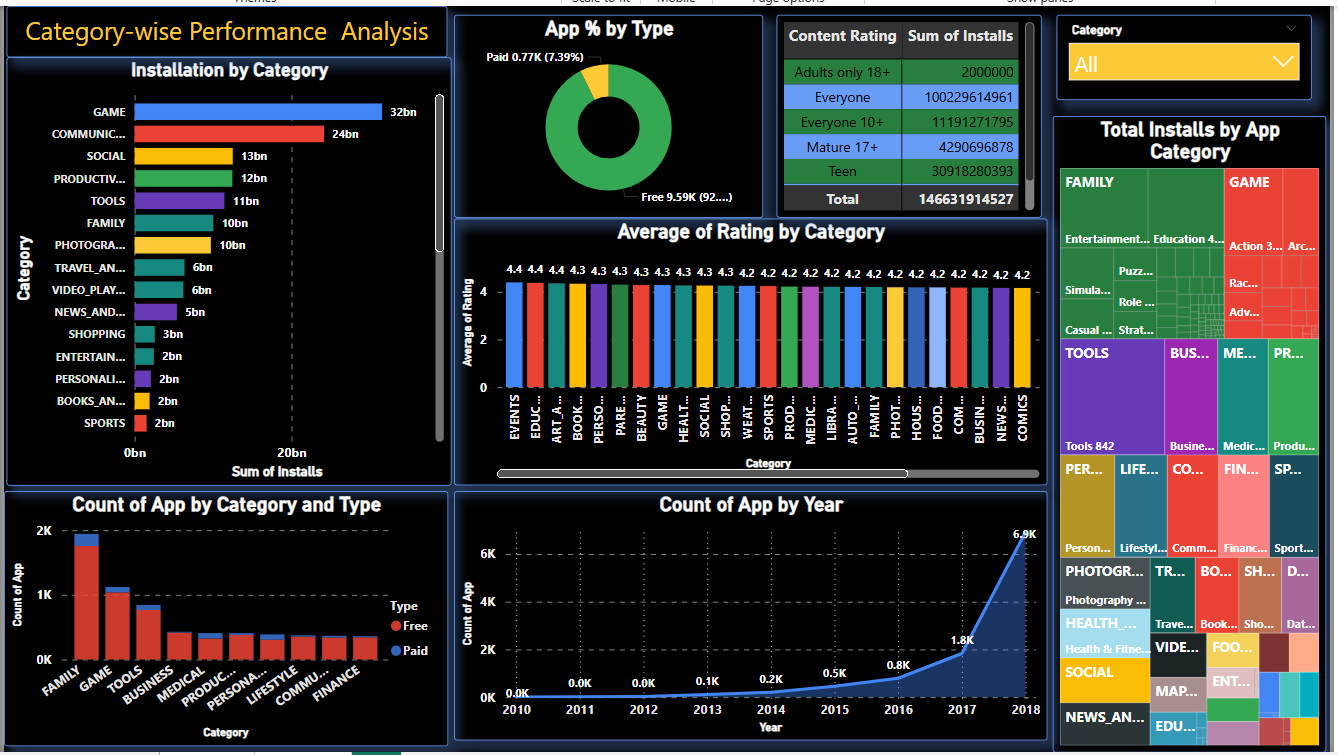

Layout of this report page (visuals, bound fields, positions):
{"tool":"powerbi","page":{"name":"Page 2","canvas":[1280,720],"ordinal":1},"visuals":[{"type":"donutChart","title":"App % by Type","fields":{"Category":["cleaned_data.Type"],"Y":["CountNonNull(cleaned_data.App)"]},"box":[434.2,8.2,298.6,195.8],"z":0},{"type":"barChart","title":"Installation by Category","fields":{"Category":["cleaned_data.Category"],"Y":["Sum(cleaned_data.Installs)"]},"box":[2.4,49.5,429.5,413.8],"z":1000},{"type":"areaChart","fields":{"Category":["cleaned_data.Last Updated.Variation.Date Hierarchy.Year"],"Y":["CountNonNull(cleaned_data.App)"]},"box":[434.2,468.4,572.5,241],"z":2000},{"type":"treemap","title":"Total Installs by App Category","fields":{"Group":["cleaned_data.Category"],"Values":["CountNonNull(cleaned_data.App)"],"Details":["cleaned_data.Genres"]},"box":[1012.2,106.2,264.2,614.1],"z":3000},{"type":"clusteredColumnChart","fields":{"Category":["cleaned_data.Category"],"Y":["Avg(cleaned_data.Rating)"]},"box":[434.2,205.4,572.5,257.5],"z":4000},{"type":"columnChart","fields":{"Category":["cleaned_data.Category"],"Y":["CountNonNull(cleaned_data.App)"],"Series":["cleaned_data.Type"]},"box":[0,468.4,428.7,246.5],"z":5000},{"type":"pivotTable","fields":{"Rows":["cleaned_data.Content Rating"],"Values":["Sum(cleaned_data.Installs)"]},"box":[745.1,8.2,256.1,195.8],"z":6000},{"type":"slicer","fields":{"Values":["cleaned_data.Category"]},"box":[1016.2,8.2,246.5,82.2],"z":7000},{"type":"textbox","box":[2.4,0,425.9,49.5],"z":7001}]}

Visuals, with their boxes on the page's 1280x720 design canvas (x1, y1, x2, y2). These are canvas units, not pixel positions in the 1338x755 screenshot, which may show the page scaled, cropped or inside an application window:
"App % by Type" donutChart: 434:8:733:204
"Installation by Category" barChart: 2:50:432:463
areaChart - cleaned_data.Last Updated.Variation.Date Hierarchy.Year x CountNonNull(cleaned_data.App): 434:468:1007:709
"Total Installs by App Category" treemap: 1012:106:1276:720
clusteredColumnChart - cleaned_data.Category x Avg(cleaned_data.Rating): 434:205:1007:463
columnChart - cleaned_data.Category x CountNonNull(cleaned_data.App): 0:468:429:715
pivotTable - cleaned_data.Content Rating x Sum(cleaned_data.Installs): 745:8:1001:204
slicer - cleaned_data.Category: 1016:8:1263:90
textbox: 2:0:428:50
